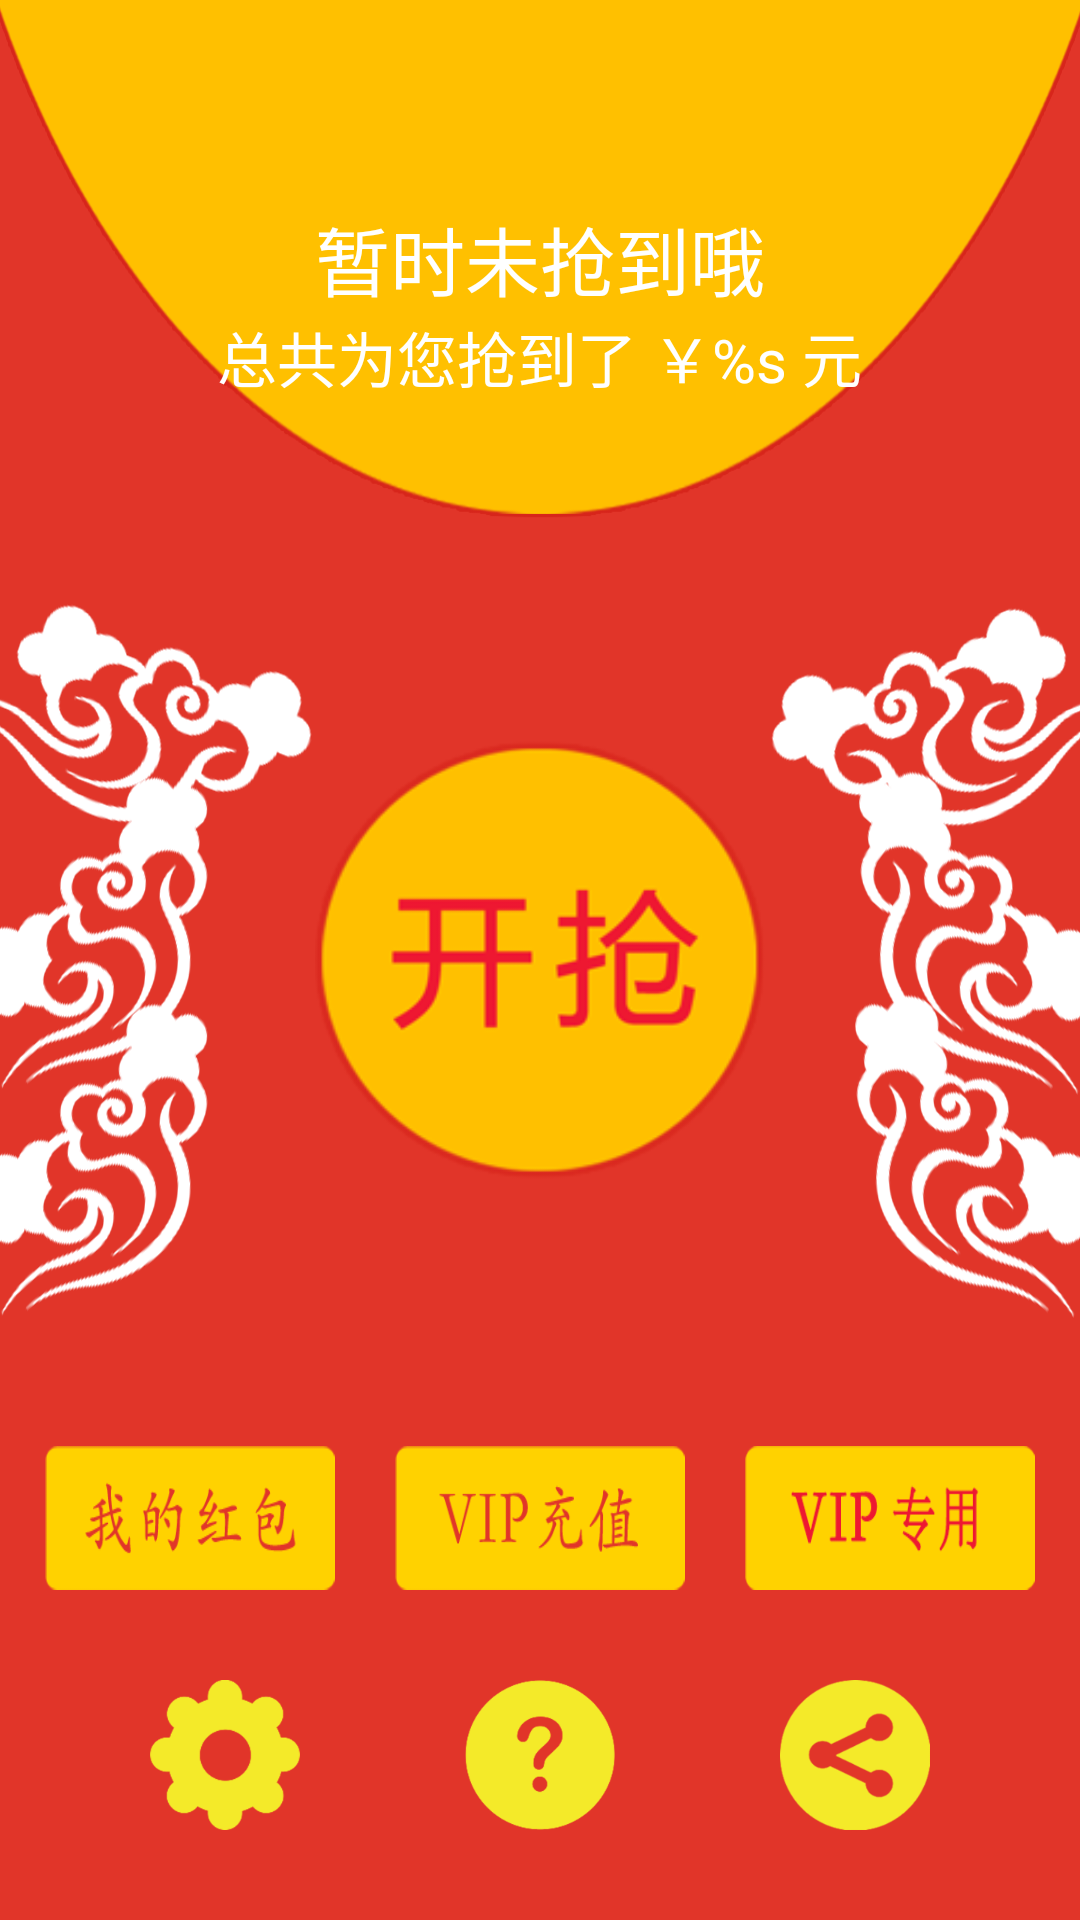

Where to tap for icons on this 1080px×1920px app screen, as point (x, y):
about: point (540, 1755)
settings: point (225, 1755)
share: point (855, 1755)
